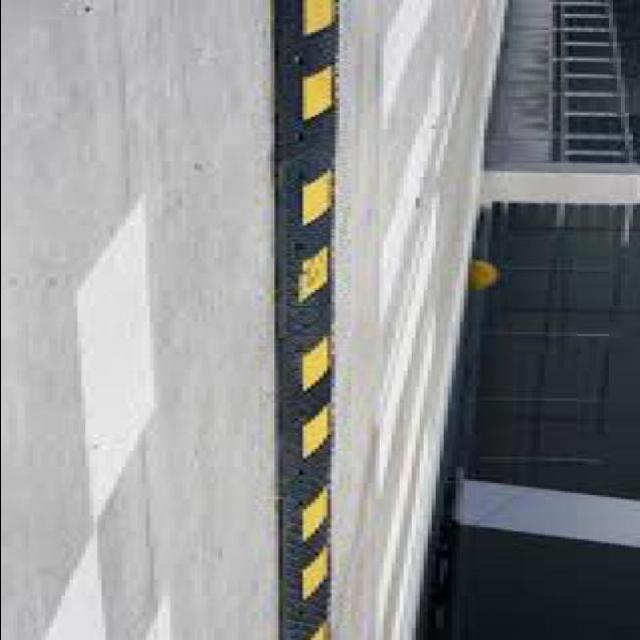Speed_Breaker: (262, 0, 340, 640), (270, 0, 338, 639)
